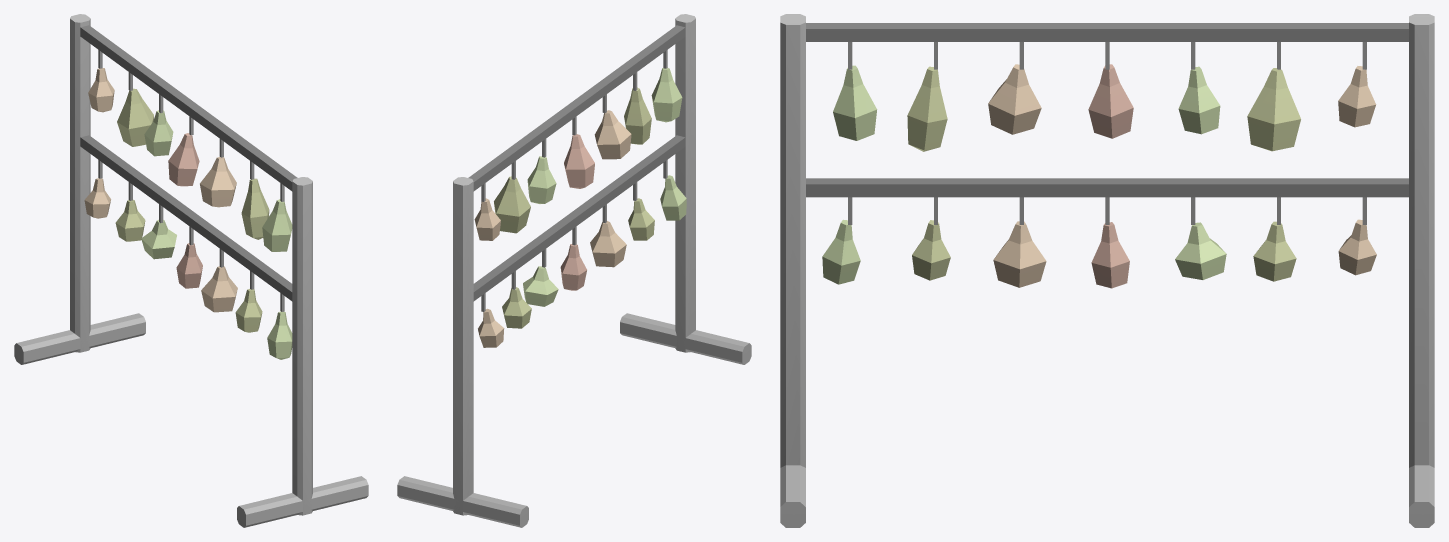
The model's file is drying_rack_0.glb.
3 renders of one model, left to right at view 1: azimuth 30°, elevation 25°; view 2: azimuth 150°, elevation 25°; view 3: azimuth 270°, elevation 25°, orthographic. The views are drawn at different scales.
Parts seen in each view (by area): view 1: herb_string.015; view 2: herb_string.015; view 3: herb_string.015.
Part boxes in pixels (<box>): herb_string.015: <box>14,14,368,527</box>; herb_string.015: <box>397,14,751,527</box>; herb_string.015: <box>780,14,1434,527</box>.
Size of the model in its own units: 0.7 by 1.8 by 2.29.
